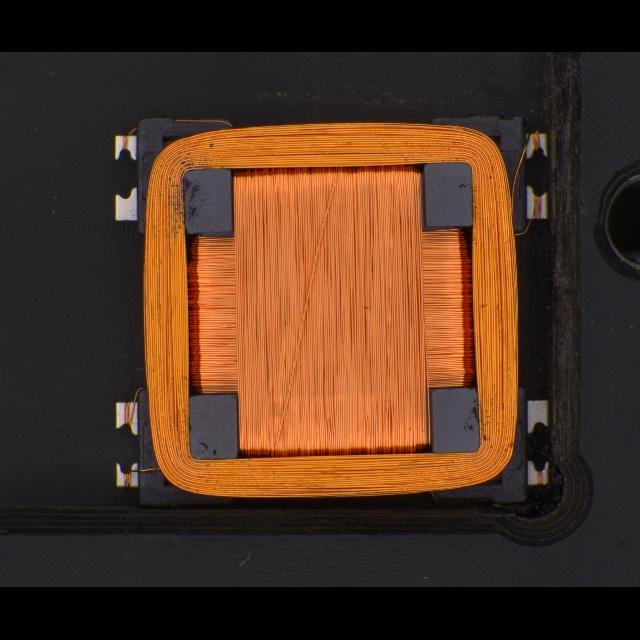Winding_Z: (129, 116, 524, 503)
